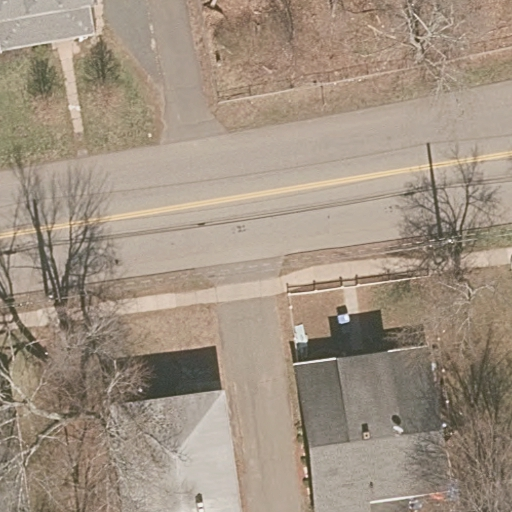DT: (414, 229, 467, 262)
